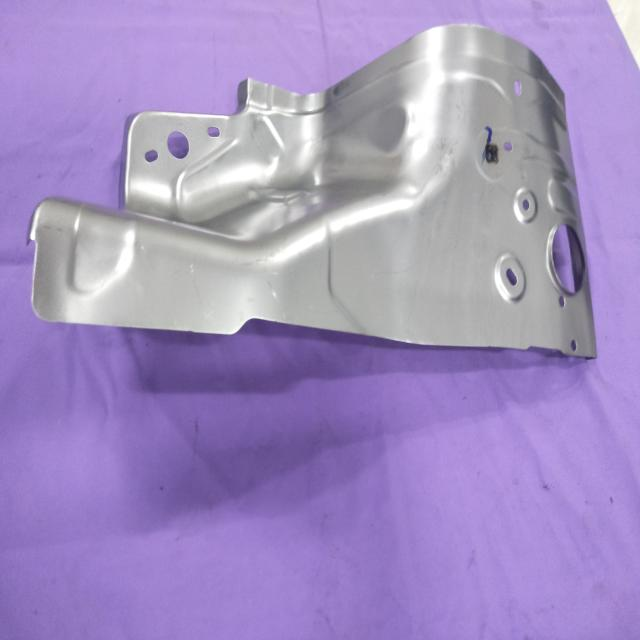Healthy: (27, 22, 598, 363)
